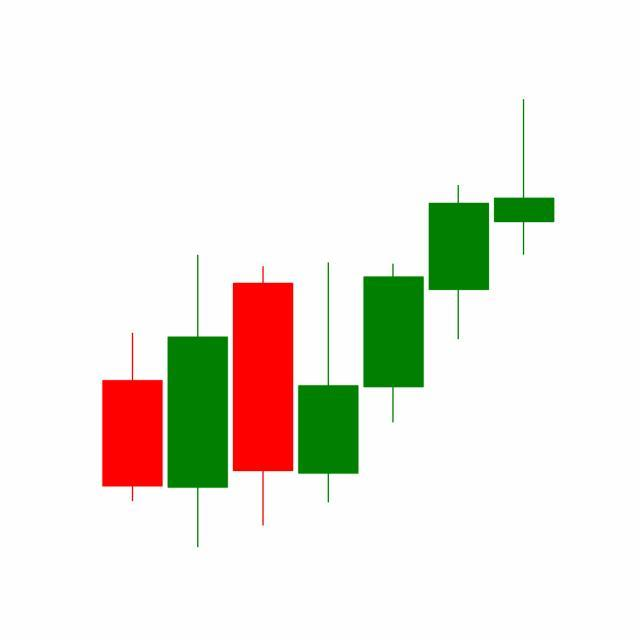Hikkake Pattern: (165, 180, 492, 548)
